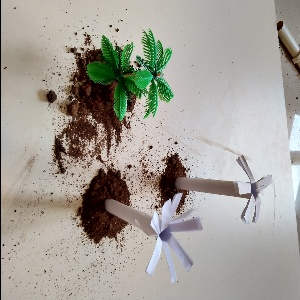plant: (77, 23, 174, 118)
weed: (96, 183, 199, 282), (168, 147, 282, 229)
